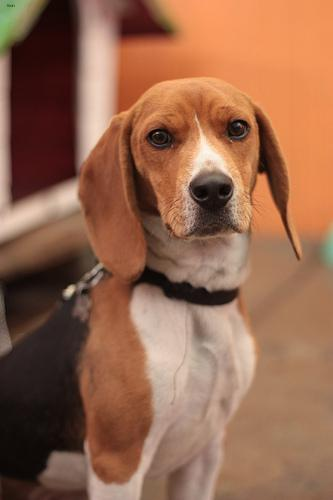dog-beagle: (77, 75, 300, 280)
